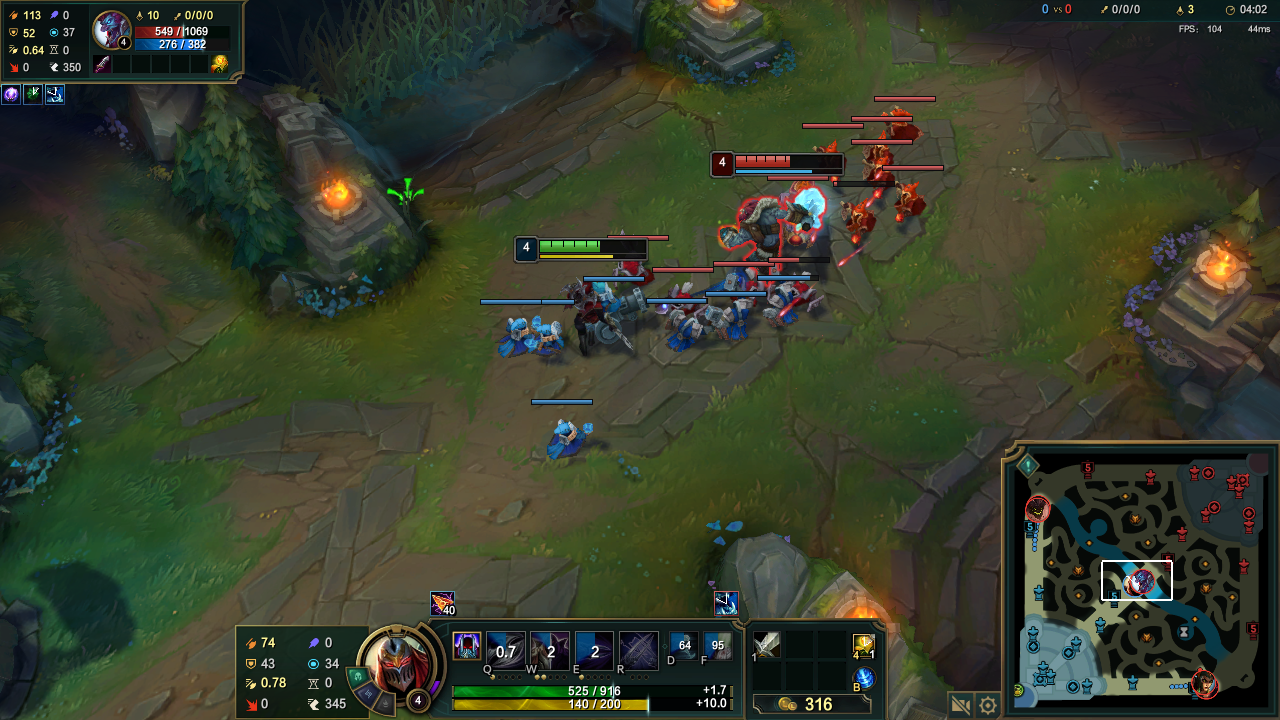DFYX: (733, 154, 844, 173)
